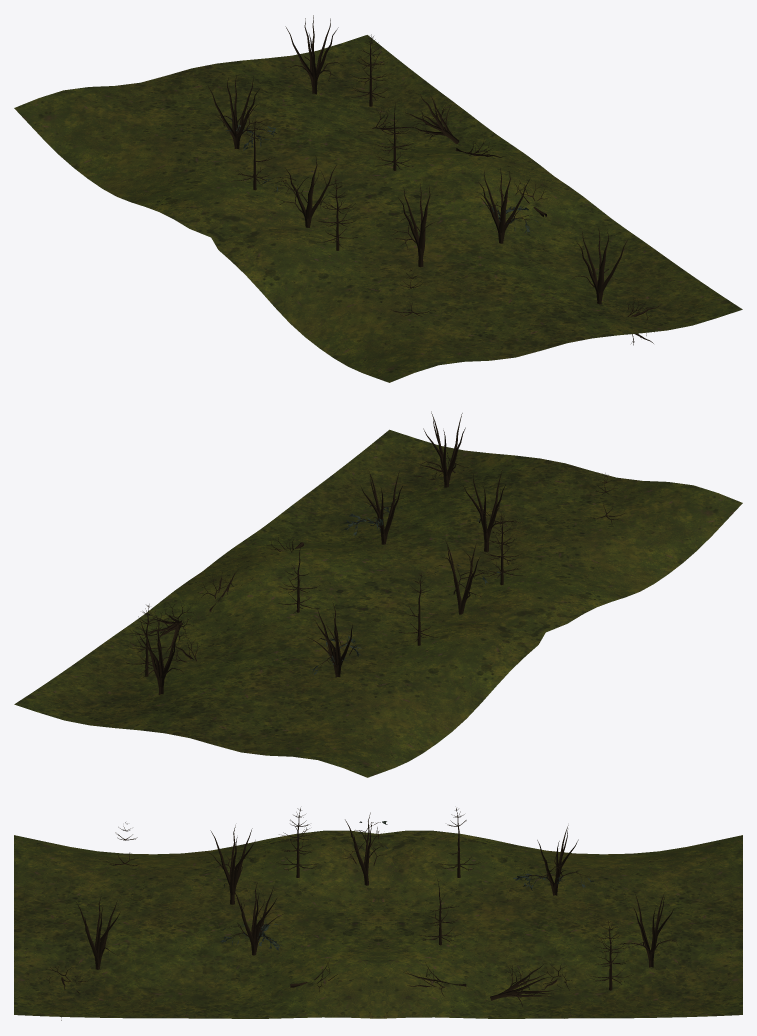
File: Forest Scene 1.fbx
3 views of the same model, one above another, from view 1: azimuth 30°, elevation 25°; view 2: azimuth 150°, elevation 25°; view 3: azimuth 270°, elevation 25° (orthographic). The views are drawn at different scales.
Visible parts, largest first — view 1: Ground.001; view 2: Ground.001; view 3: Ground.001.
Part boxes in pixels (x1,y1,x2,y2): Ground.001: (14,15,742,382); Ground.001: (14,411,742,777); Ground.001: (14,808,742,1020).
Size of the model in its own units: 1022 by 350 by 1880.
